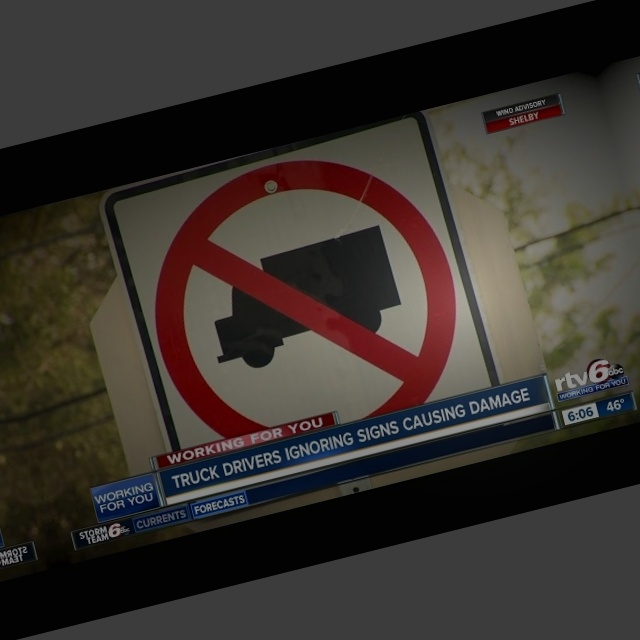Truck_Prohibited: (127, 134, 476, 448)
